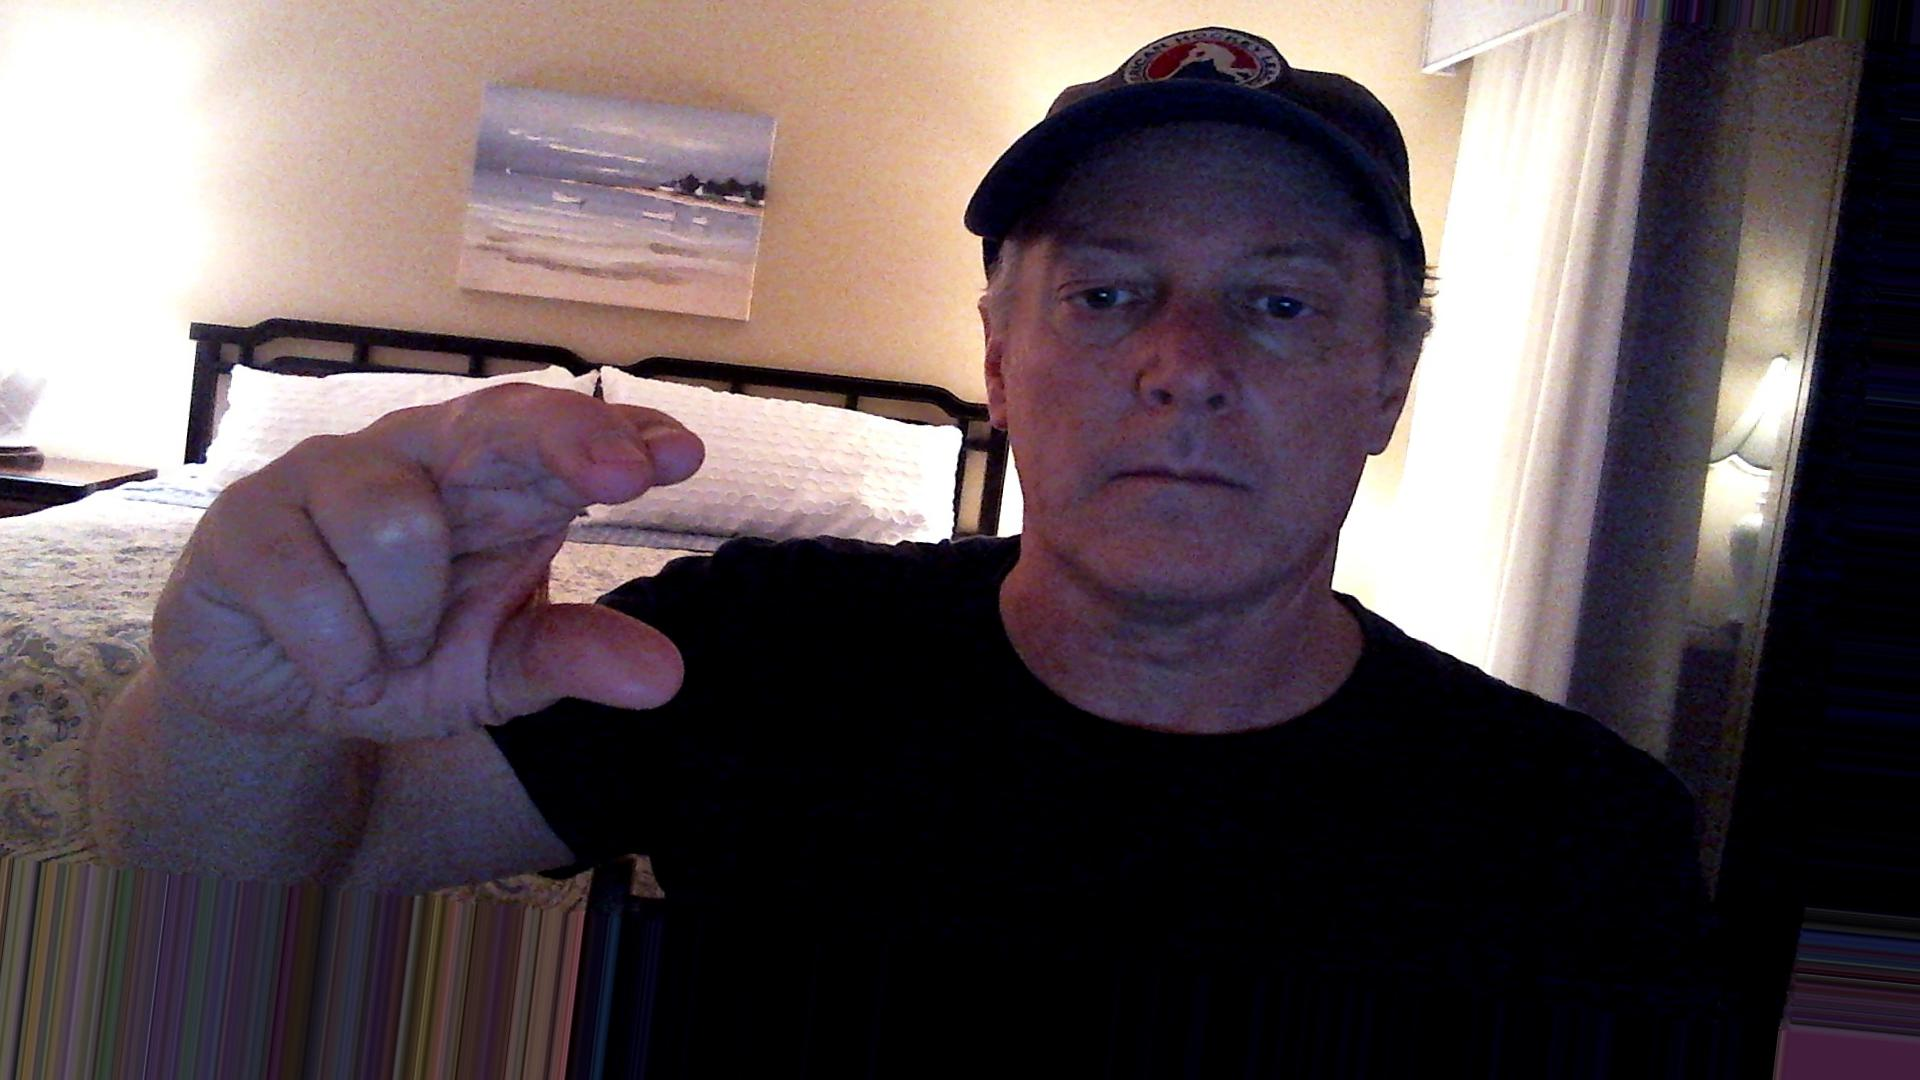No: (105, 364, 725, 766)
